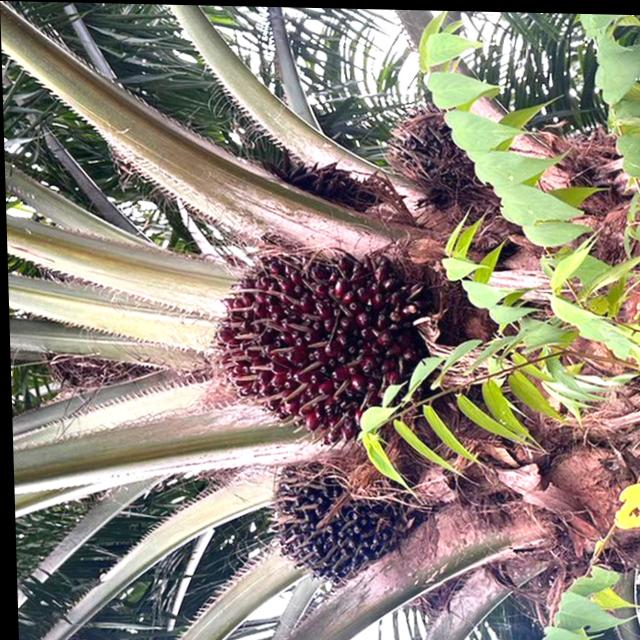ripe: (175, 220, 453, 462)
